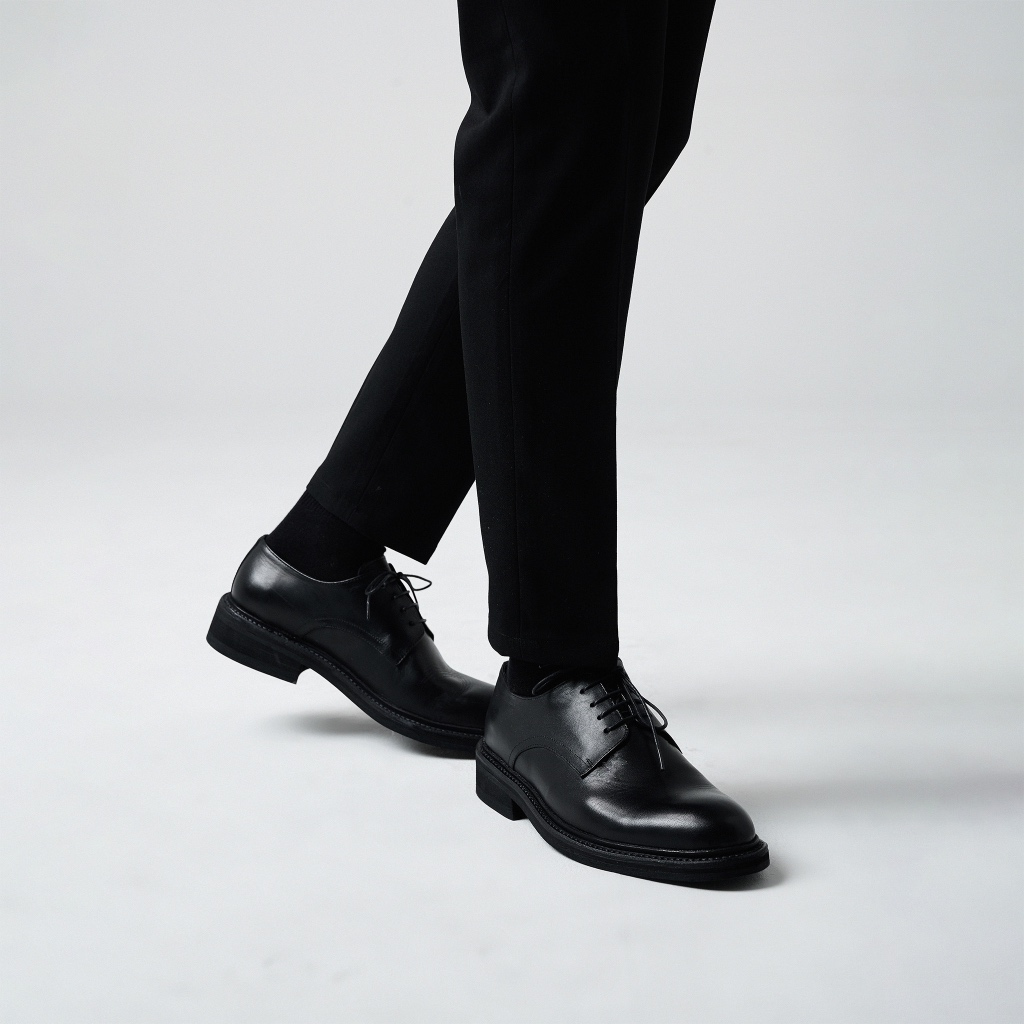derby: (472, 659, 773, 890), (207, 533, 497, 760)
